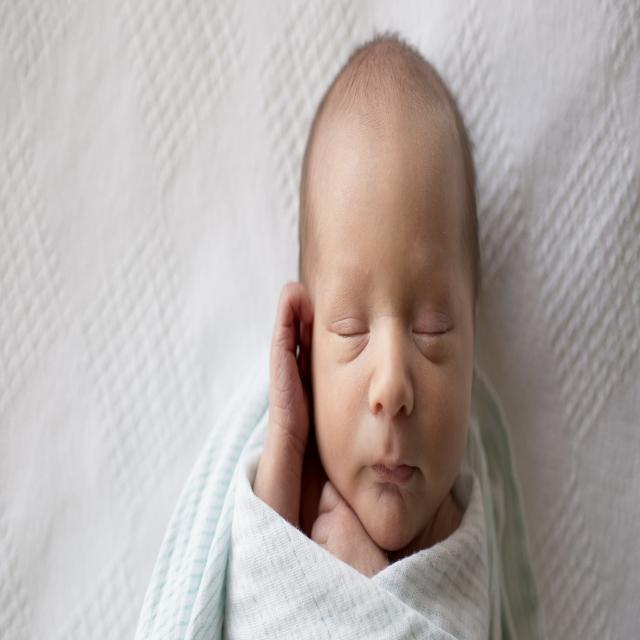non-dog: (133, 31, 548, 640)
